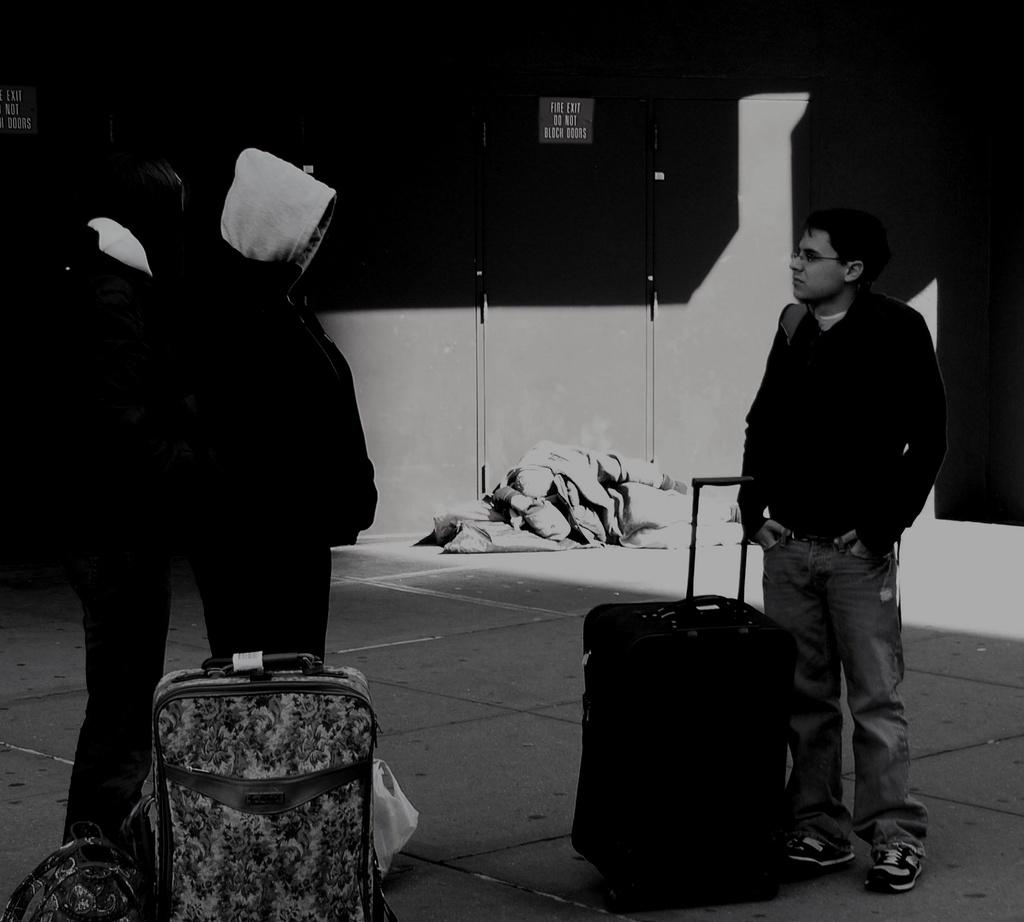Luggage-and-bags: (573, 473, 796, 901), (125, 648, 417, 902), (0, 819, 143, 921)
